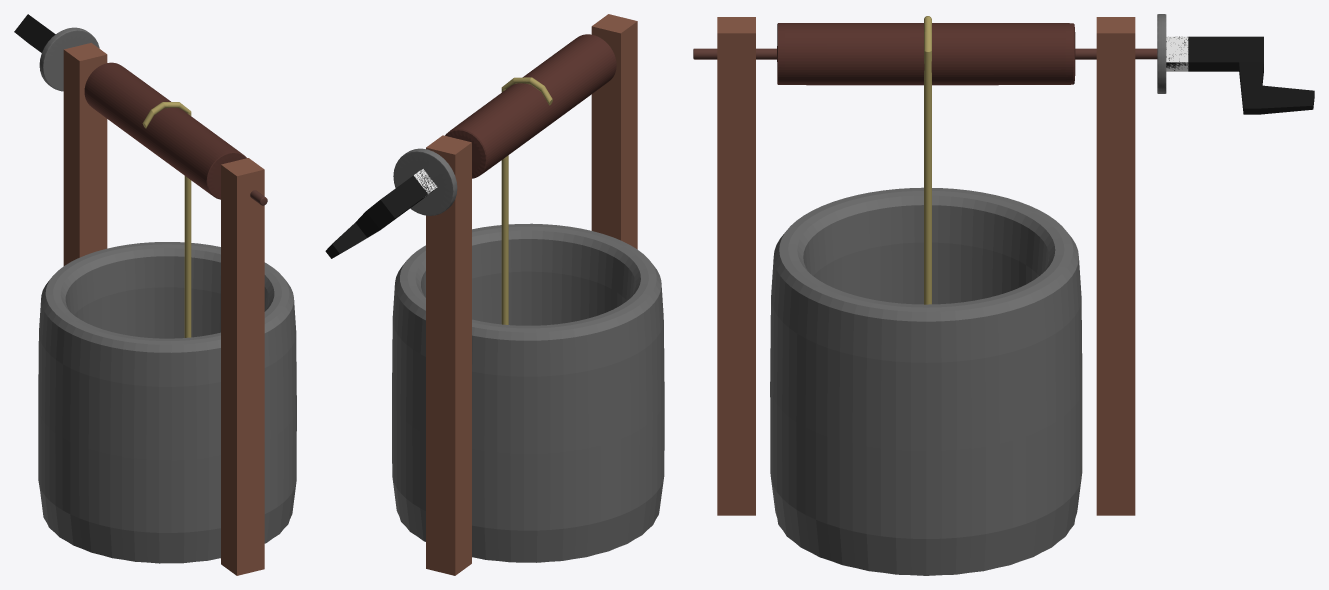
Rendered from Kolodets.fbx.
3 views of the same model, side by side, from view 1: azimuth 30°, elevation 25°; view 2: azimuth 150°, elevation 25°; view 3: azimuth 270°, elevation 25° (orthographic). The views are drawn at different scales.
Parts seen in each view (by area): view 1: Cylinder, Cube, Cylinder.001, Cylinder.003, Cylinder.004, Cube.003; view 2: Cylinder, Cube, Cylinder.001, Cube.003, Cylinder.003, Cylinder.004; view 3: Cylinder, Cube, Cylinder.001, Cube.003, Cylinder.004, Cylinder.002, Cube.001, Cylinder.003.
Part boxes in pixels (x1,y1,x2,y2): Cylinder: (38,242,296,563); Cube: (63,43,264,575); Cylinder.001: (84,62,246,199); Cylinder.003: (39,27,99,91); Cylinder.004: (142,102,191,337); Cube.003: (14,14,55,52); Cylinder: (392,223,664,562); Cube: (426,14,637,575); Cylinder.001: (445,34,616,178); Cube.003: (325,168,436,258); Cylinder.003: (393,148,457,215); Cylinder.004: (501,77,552,324); Cylinder: (770,187,1082,575); Cube: (717,17,1135,515); Cylinder.001: (777,23,1075,85); Cube.003: (1166,36,1314,114); Cylinder.004: (924,16,931,304); Cylinder.002: (693,48,1157,59); Cube.001: (1166,36,1188,71); Cylinder.003: (1157,14,1166,93).
Bounding box in the file's own units: 320 × 567 × 638.
